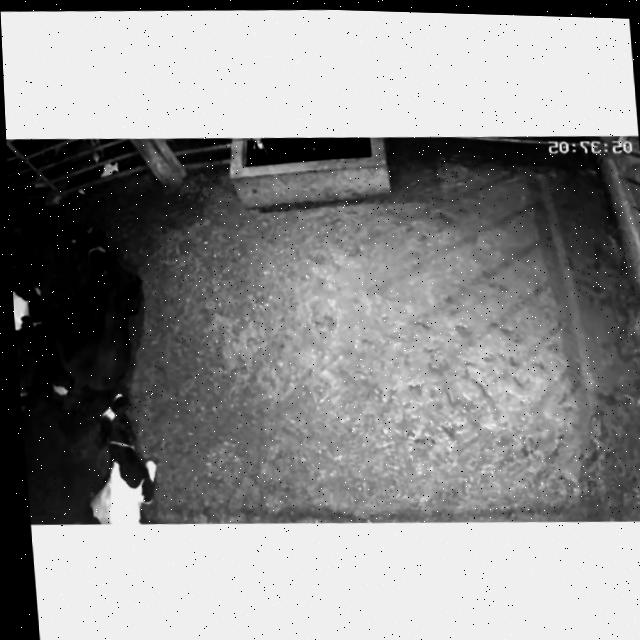lay: (43, 219, 164, 408), (53, 382, 188, 527), (9, 203, 64, 419)
